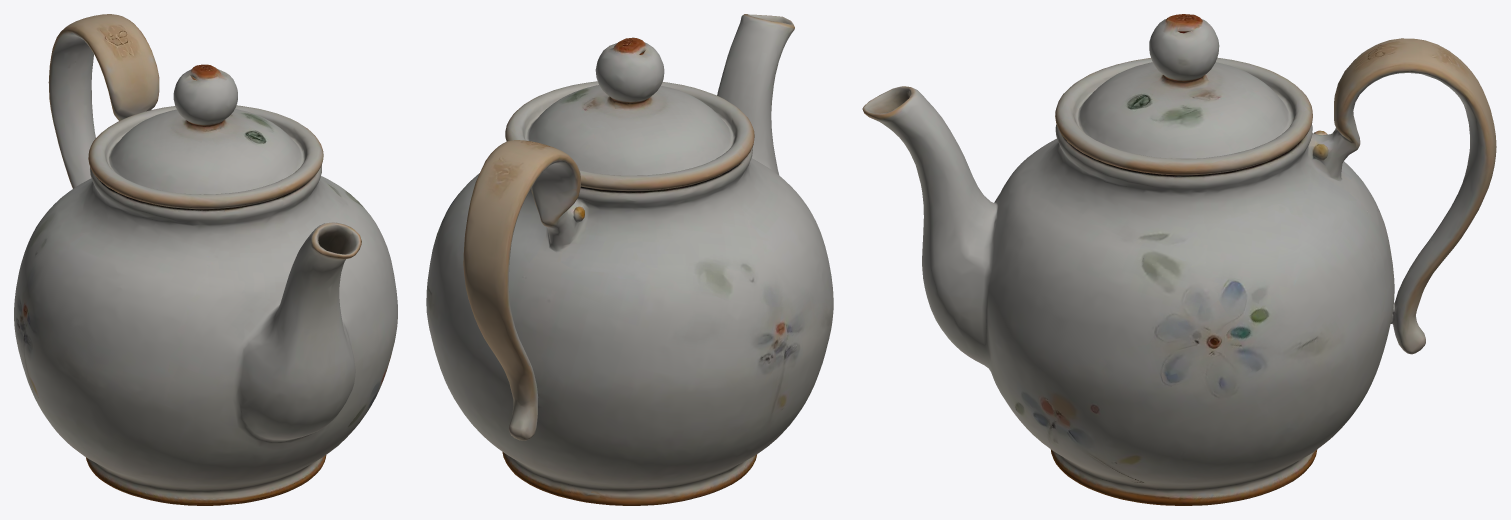
The model's file is teapot.glb.
3 views of the same model, side by side, from view 1: azimuth 30°, elevation 25°; view 2: azimuth 150°, elevation 25°; view 3: azimuth 270°, elevation 25° (orthographic). The views are drawn at different scales.
Parts seen in each view (by area): view 1: tripo_node_0ac0afd5-b317-4092-a981-0cbe818bffb1; view 2: tripo_node_0ac0afd5-b317-4092-a981-0cbe818bffb1; view 3: tripo_node_0ac0afd5-b317-4092-a981-0cbe818bffb1.
Boxes of the visible parts, x1,y1,x2,y2 form: tripo_node_0ac0afd5-b317-4092-a981-0cbe818bffb1: [14, 14, 397, 505]; tripo_node_0ac0afd5-b317-4092-a981-0cbe818bffb1: [426, 14, 833, 505]; tripo_node_0ac0afd5-b317-4092-a981-0cbe818bffb1: [862, 14, 1496, 505].
Bounding box in the file's own units: 0.6795 × 0.755 × 1.
Materials: 1 (1 with a texture image).
